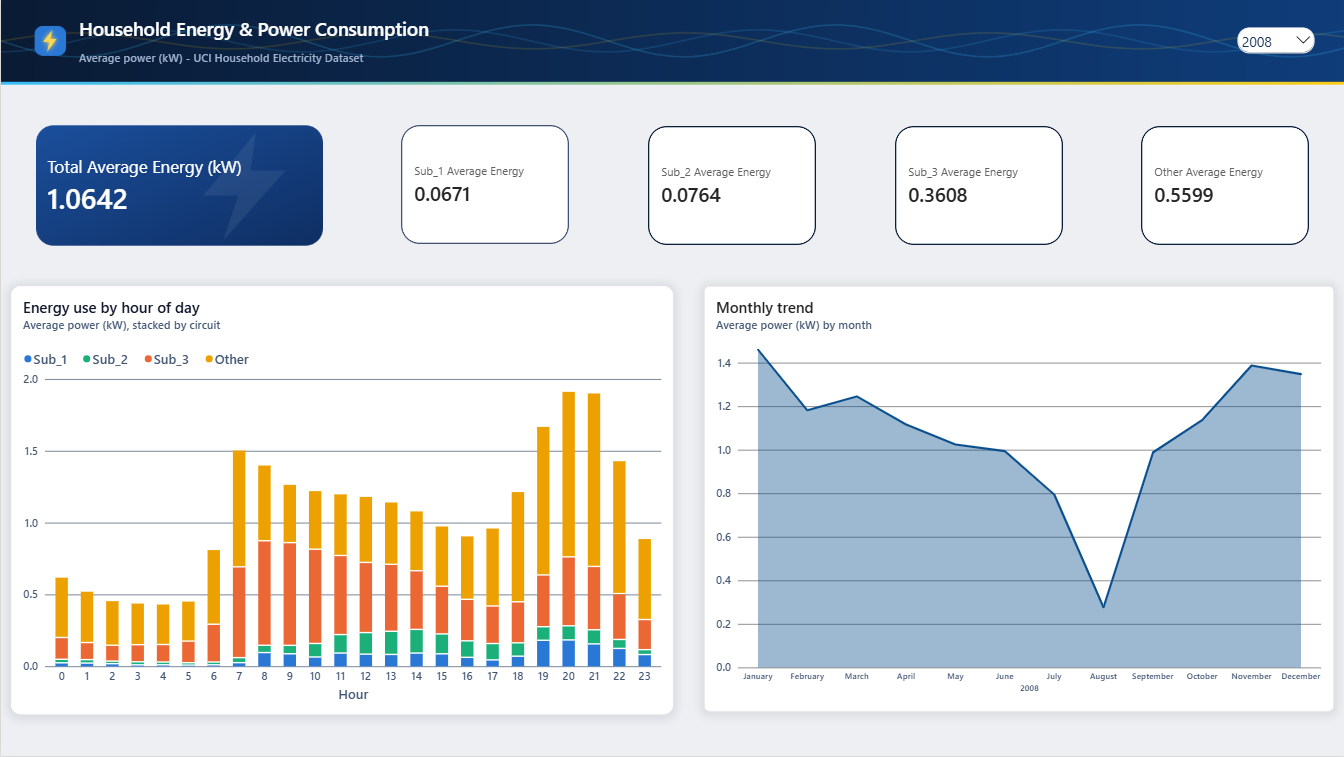

The page's visual inventory and layout, read from the dashboard file:
{"tool":"powerbi","page":{"name":"Page 1","canvas":[1920,1080],"ordinal":0},"visuals":[{"type":"image","box":[0,0,1920,121],"z":0},{"type":"image","box":[50,170,410,190],"z":500},{"type":"cardVisual","title":"Average energy","fields":{"Data":["household_power_consumption.Avg Total kWh"]},"box":[50,170,410,190],"z":1000},{"type":"lineChart","title":"Monthly trend","fields":{"Category":["household_power_consumption.Start of month.Variation.Date Hierarchy.Year","household_power_consumption.Start of month.Variation.Date Hierarchy.Month"],"Y":["household_power_consumption.Avg Total kWh"]},"box":[1004,408,900,608],"z":2000},{"type":"columnChart","title":"Energy use by hour of day","fields":{"Category":["household_power_consumption.Hour"],"Y":["household_power_consumption.Sub_1","household_power_consumption.Sub_2","household_power_consumption.Sub_3","household_power_consumption.Avg Other kWh"]},"box":[14,408,946,612],"z":3000},{"type":"slicer","fields":{"Values":["household_power_consumption.Year"]},"box":[1762,34,120,50],"z":4000},{"type":"textbox","box":[111.7,23.3,508.3,36.7],"z":5000},{"type":"textbox","box":[111.7,71.7,546.7,21.7],"z":6000},{"type":"cardVisual","fields":{"Data":["household_power_consumption.Sub_1"]},"box":[572,178.6,240,170],"z":7000},{"type":"cardVisual","fields":{"Data":["household_power_consumption.Sub_2"]},"box":[924,180,240,170],"z":8000},{"type":"cardVisual","fields":{"Data":["household_power_consumption.Sub_3"]},"box":[1277,180,240,170],"z":9000},{"type":"cardVisual","fields":{"Data":["household_power_consumption.Avg Other kWh"]},"box":[1629,180,240,170],"z":10000}]}

Visuals, with their boxes in screenshot pixels (x1, y1, x2, y2), scaled from the page's 1920x1080 canvas onto the 1344x757 screenshot:
image: bbox(0, 0, 1343, 85)
image: bbox(35, 119, 322, 252)
"Average energy" cardVisual: bbox(35, 119, 322, 252)
"Monthly trend" lineChart: bbox(703, 286, 1333, 712)
"Energy use by hour of day" columnChart: bbox(10, 286, 672, 715)
slicer - household_power_consumption.Year: bbox(1233, 24, 1317, 59)
textbox: bbox(78, 16, 434, 42)
textbox: bbox(78, 50, 461, 65)
cardVisual - household_power_consumption.Sub_1: bbox(400, 125, 568, 244)
cardVisual - household_power_consumption.Sub_2: bbox(647, 126, 815, 245)
cardVisual - household_power_consumption.Sub_3: bbox(894, 126, 1062, 245)
cardVisual - household_power_consumption.Avg Other kWh: bbox(1140, 126, 1308, 245)
